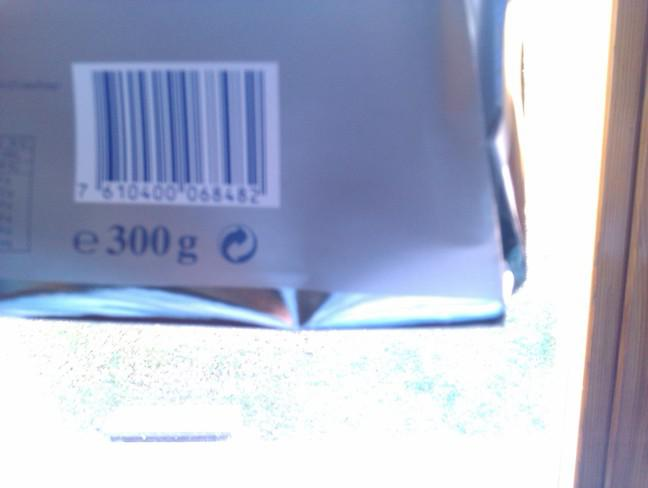Barkod: (70, 63, 279, 205)
